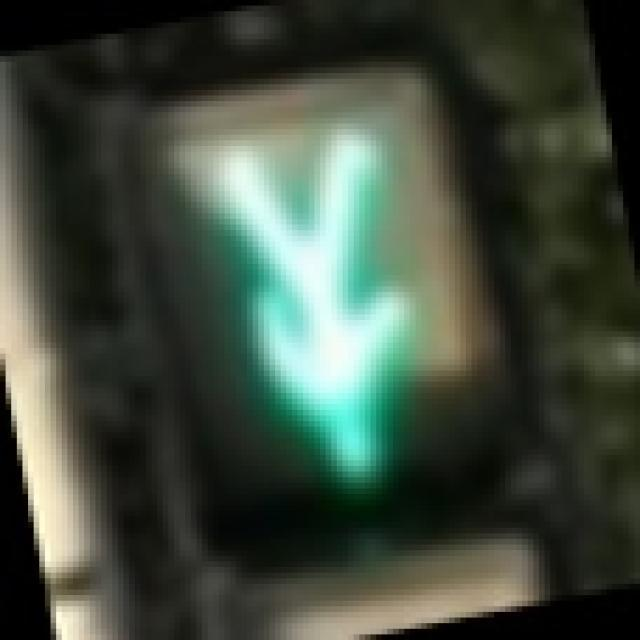geen-crossing: (123, 73, 506, 550)
